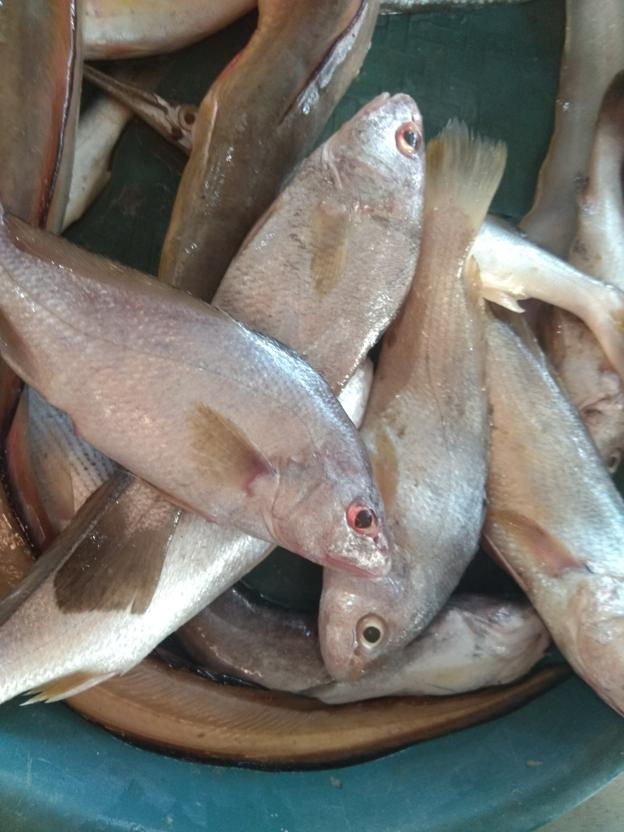Fish head: (272, 444, 393, 581), (324, 92, 429, 232), (316, 565, 435, 683)
Fish tail: (51, 496, 184, 615), (429, 115, 508, 238)
